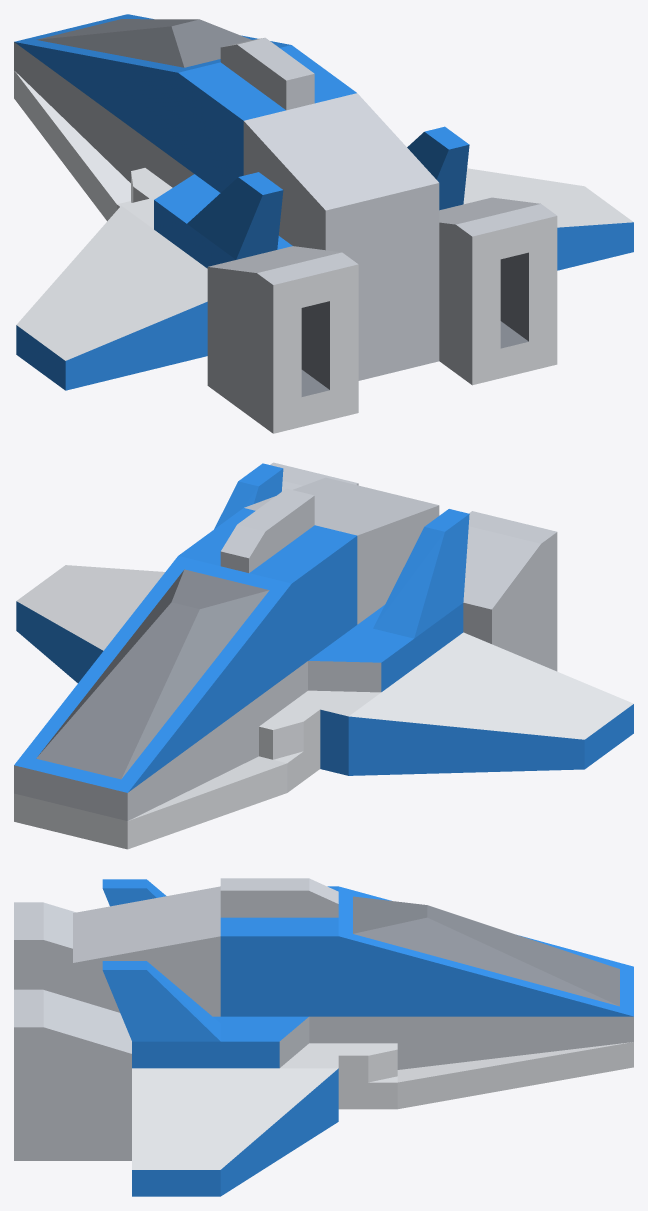
File: craft.glb
3 renders of one model, top to bottom at view 1: azimuth 30°, elevation 25°; view 2: azimuth 150°, elevation 25°; view 3: azimuth 270°, elevation 25°, orthographic. The views are drawn at different scales.
Visible parts, largest first — view 1: craft_speederA; view 2: craft_speederA; view 3: craft_speederA.
Boxes of the visible parts, <box> form: craft_speederA: <box>14,14,633,433</box>; craft_speederA: <box>14,462,633,849</box>; craft_speederA: <box>14,878,633,1196</box>.
Bounding box in the file's own units: 2 × 0.7999 × 2.1.
